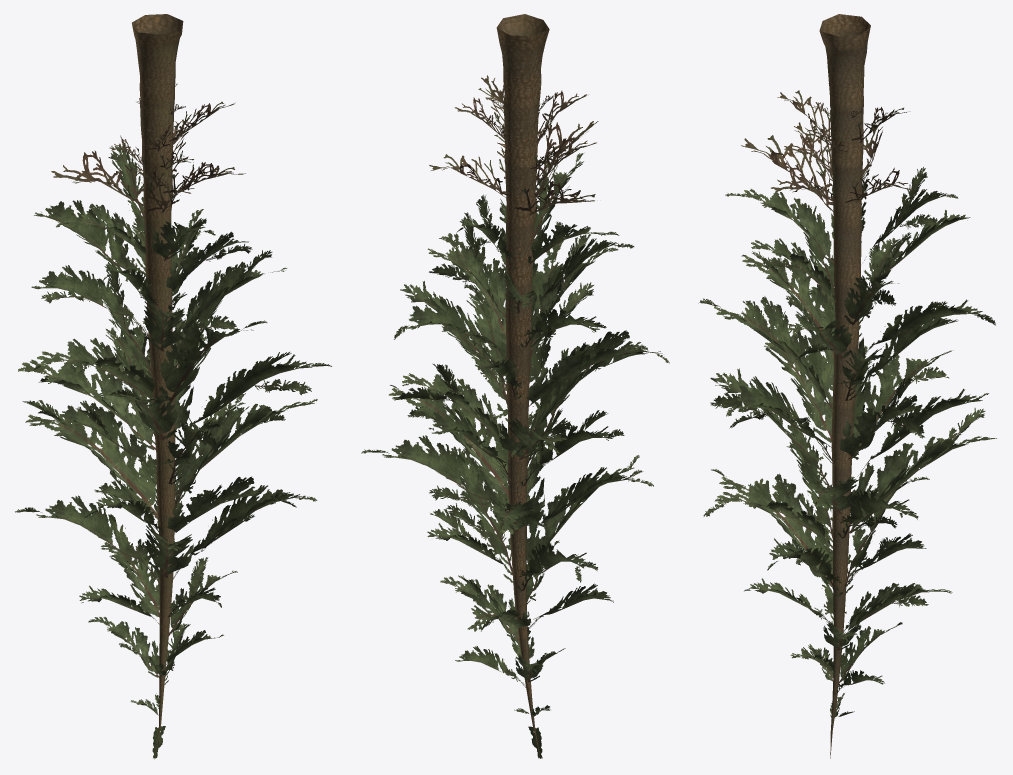
The model's file is BIO_VEG_SpruceTree_01F.fbx.
3 renders of one model, left to right at view 1: azimuth 30°, elevation 25°; view 2: azimuth 150°, elevation 25°; view 3: azimuth 270°, elevation 25°, orthographic.
Parts seen in each view (by area): view 1: BIO_VEG_SpruceTree_01F; view 2: BIO_VEG_SpruceTree_01F; view 3: BIO_VEG_SpruceTree_01F.
Boxes of the visible parts, x1,y1,x2,y2 form: BIO_VEG_SpruceTree_01F: (15, 14, 331, 759); BIO_VEG_SpruceTree_01F: (361, 14, 669, 758); BIO_VEG_SpruceTree_01F: (698, 14, 996, 758).
Size of the model in its own units: 441 by 1091 by 401.
